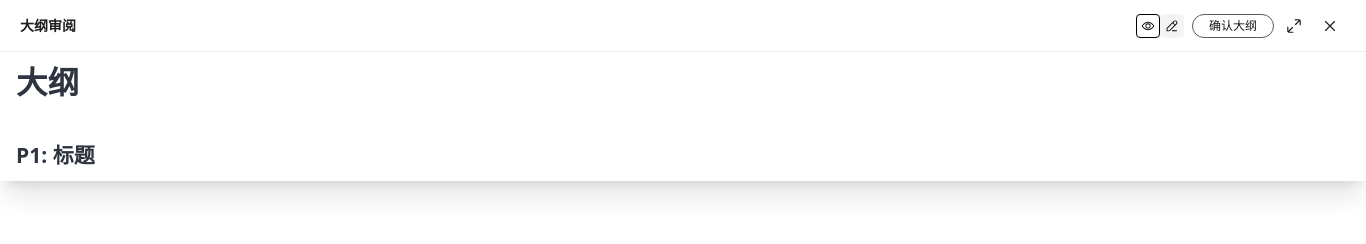
OutlinePreviewPanel › error handling › shows error when requestId mismatch
This screenshot has width=1366, height=244.
Click the button with test id "outline-preview-panel-confirm" at (1233, 26), box [1192,14,1274,38]
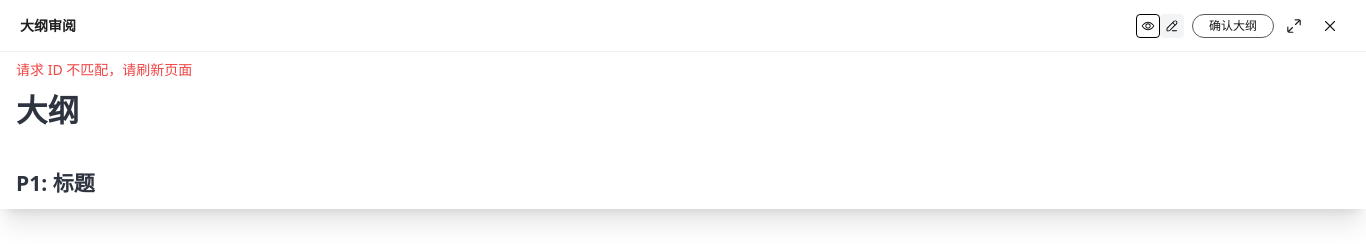
Result: the text "请求 ID 不匹配，请刷新页面" is shown at [16,60,192,79]
